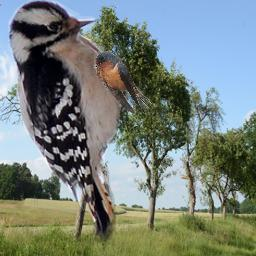Swallow: (94, 51, 156, 114)
Woodpecker: (8, 0, 150, 242)
